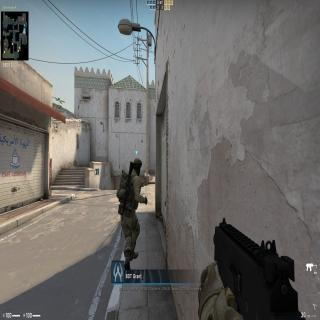CT-Head: (132, 157, 142, 176)
